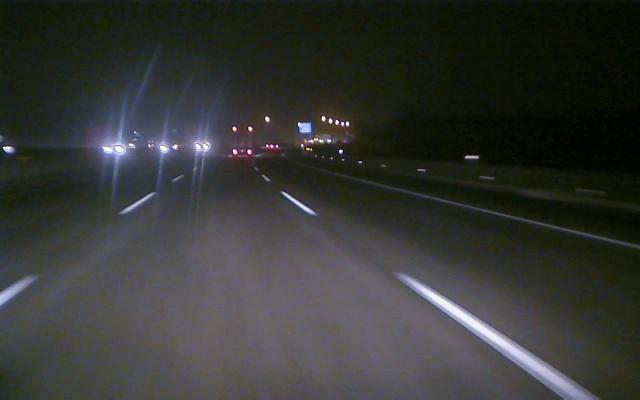lane: (262, 177, 597, 396), (1, 194, 152, 306), (385, 185, 640, 250)
